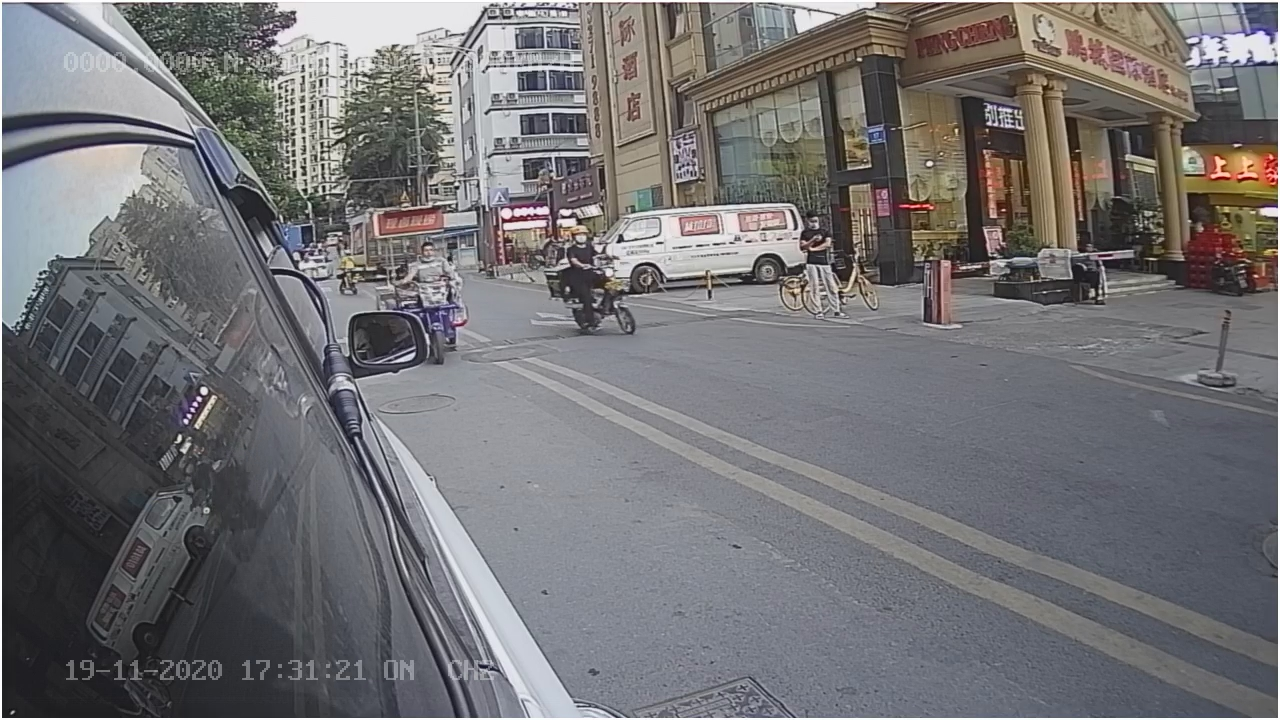person: (396, 237, 465, 280)
